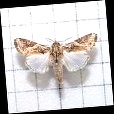Spodoptera litura: (14, 34, 99, 84)
